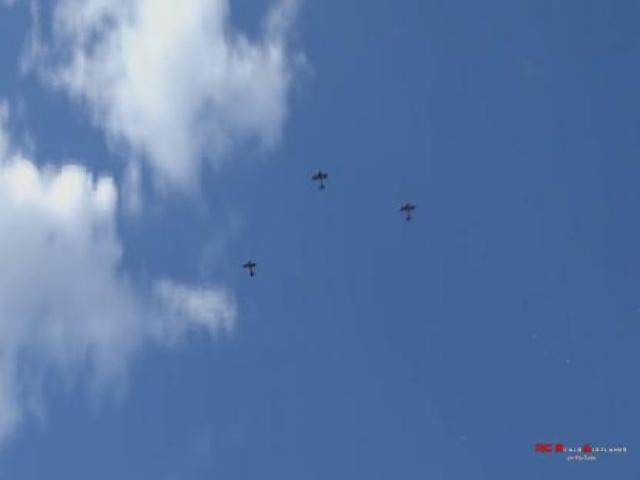uav: (307, 166, 331, 193), (397, 199, 418, 222), (240, 255, 260, 279)
